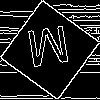M: (25, 25, 73, 77)
